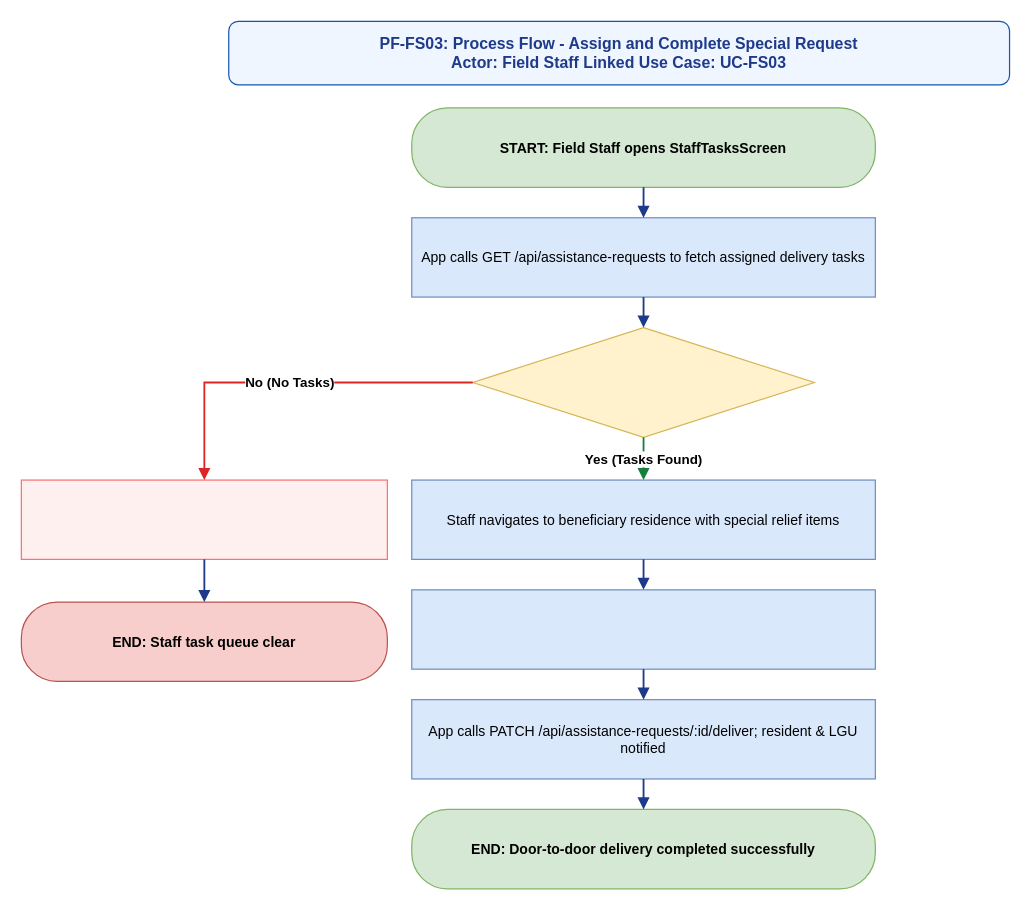
The diagram is 1031 pixels wide and 910 high, and some of its shapes have lost their labels. Each missing label, with the centre of its shape:
Assigned delivery tasks pending?: the point at 643,381
Display "No Pending Delivery Tasks" status: the point at 203,519
Hands over relief package and taps "Mark as Delivered" in app: the point at 643,629
